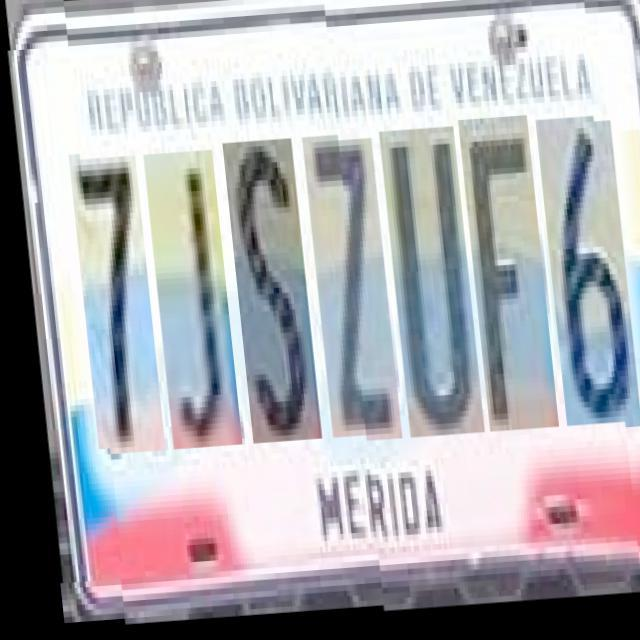6: (532, 119, 630, 428)
7: (66, 157, 156, 456)
F: (454, 118, 548, 432)
J: (140, 153, 232, 451)
S: (219, 142, 312, 446)
U: (375, 128, 474, 438)
Z: (298, 138, 392, 442)
